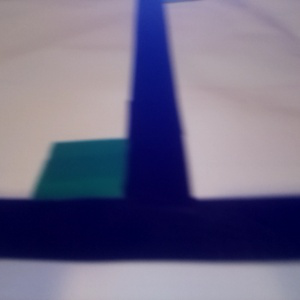top_left: (34, 140, 182, 261)
